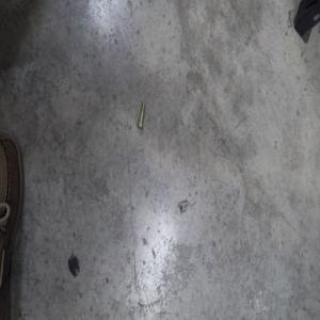Bolttrack_idkeyframe: (135, 101, 145, 131)
